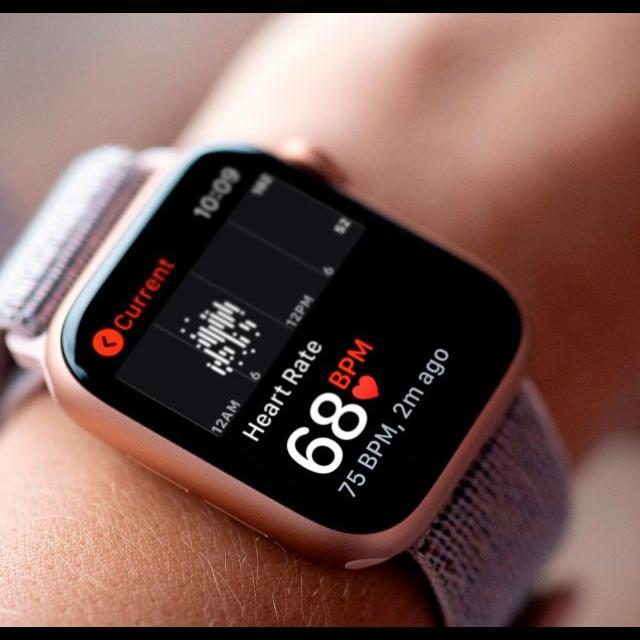watch: (0, 118, 625, 640)
